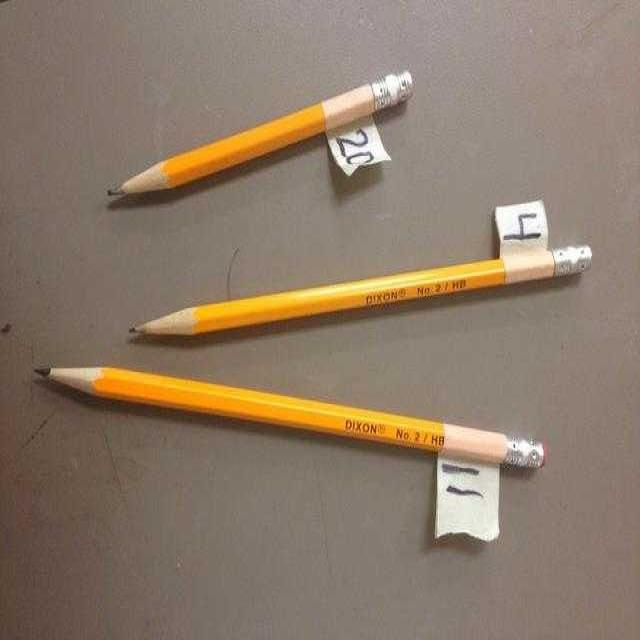pencil: (107, 203, 599, 357), (26, 356, 563, 480), (78, 48, 448, 226)
